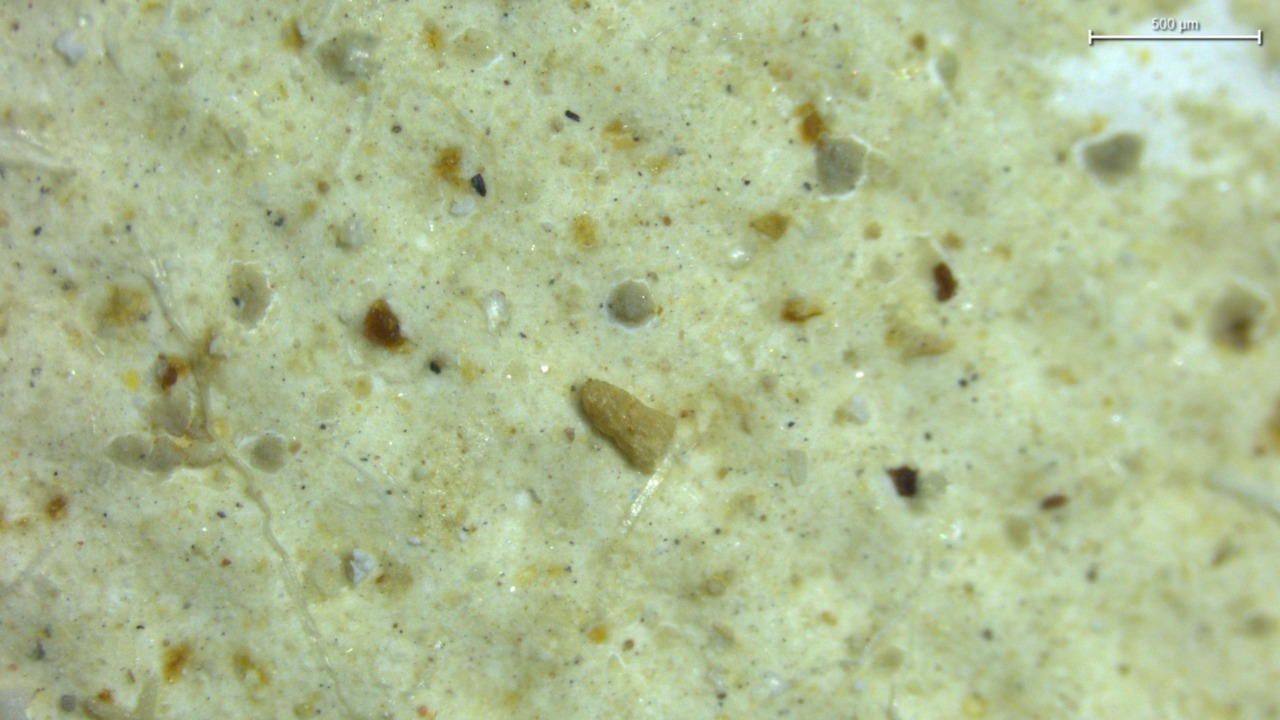microplastic_fragment: (577, 379, 676, 473), (348, 548, 380, 587), (481, 290, 509, 333)
